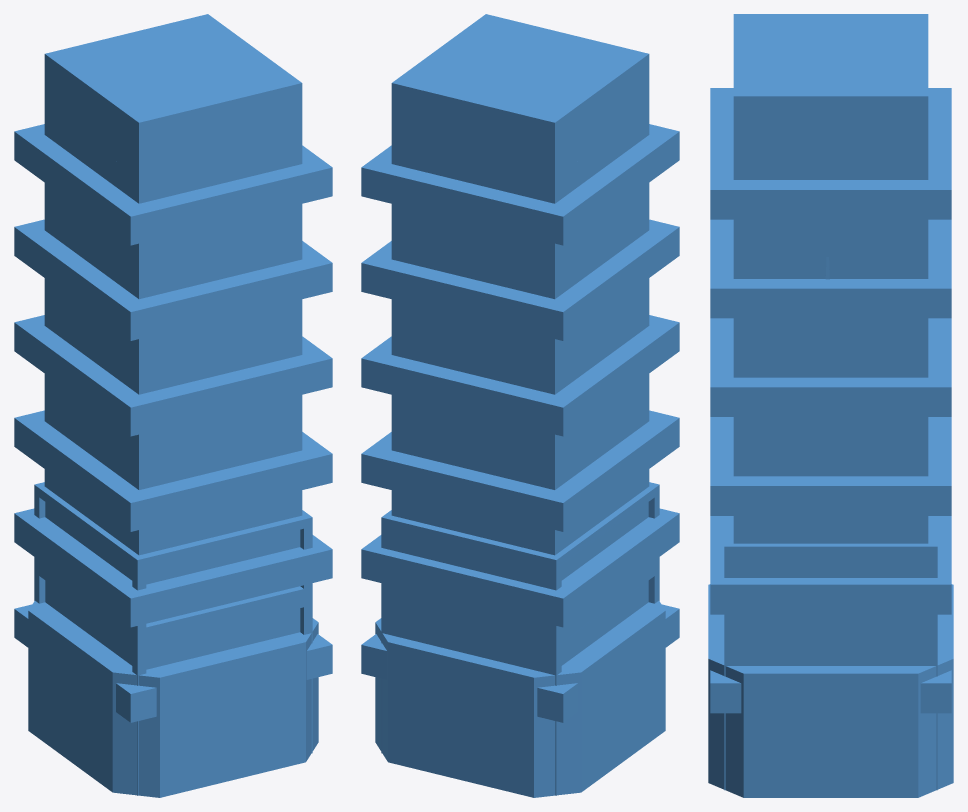
Rendered from binalar.fbx.
The picture shows the model from 3 angles, left to right: view 1: azimuth 30°, elevation 25°; view 2: azimuth 150°, elevation 25°; view 3: azimuth 270°, elevation 25°; orthographic projection. The views are drawn at different scales.
Visible parts, largest first — view 1: Bina_6, Bina_4, Bina_3, bina_10, bina_2, Bina_7, Bina_8, Bina_5; view 2: Bina_6, bina_10, Bina_4, bina_2, Bina_3, Bina_7, Bina_8; view 3: Bina_6, Bina_4, Bina_8, bina_2, Bina_3, Bina_7.
Boxes of the visible parts, box(x1,y1,x2,y2) form: Bina_6: box(14, 124, 332, 722); Bina_4: box(28, 601, 318, 797); Bina_3: box(56, 83, 288, 549); bina_10: box(44, 54, 300, 665); bina_2: box(45, 14, 302, 554); Bina_7: box(34, 485, 312, 795); Bina_8: box(34, 482, 312, 753); Bina_5: box(139, 490, 302, 555); Bina_6: box(361, 124, 679, 722); bina_10: box(397, 54, 649, 665); Bina_4: box(375, 601, 665, 797); bina_2: box(391, 14, 648, 555); Bina_3: box(411, 83, 637, 553); Bina_7: box(381, 485, 659, 795); Bina_8: box(381, 482, 659, 753); Bina_6: box(710, 88, 951, 713); Bina_4: box(708, 584, 953, 797); Bina_8: box(724, 516, 937, 790); bina_2: box(733, 14, 928, 96); Bina_3: box(733, 96, 928, 152); Bina_7: box(724, 516, 841, 546).
Bounding box in the file's own units: 10.77 × 33.44 × 10.77.
